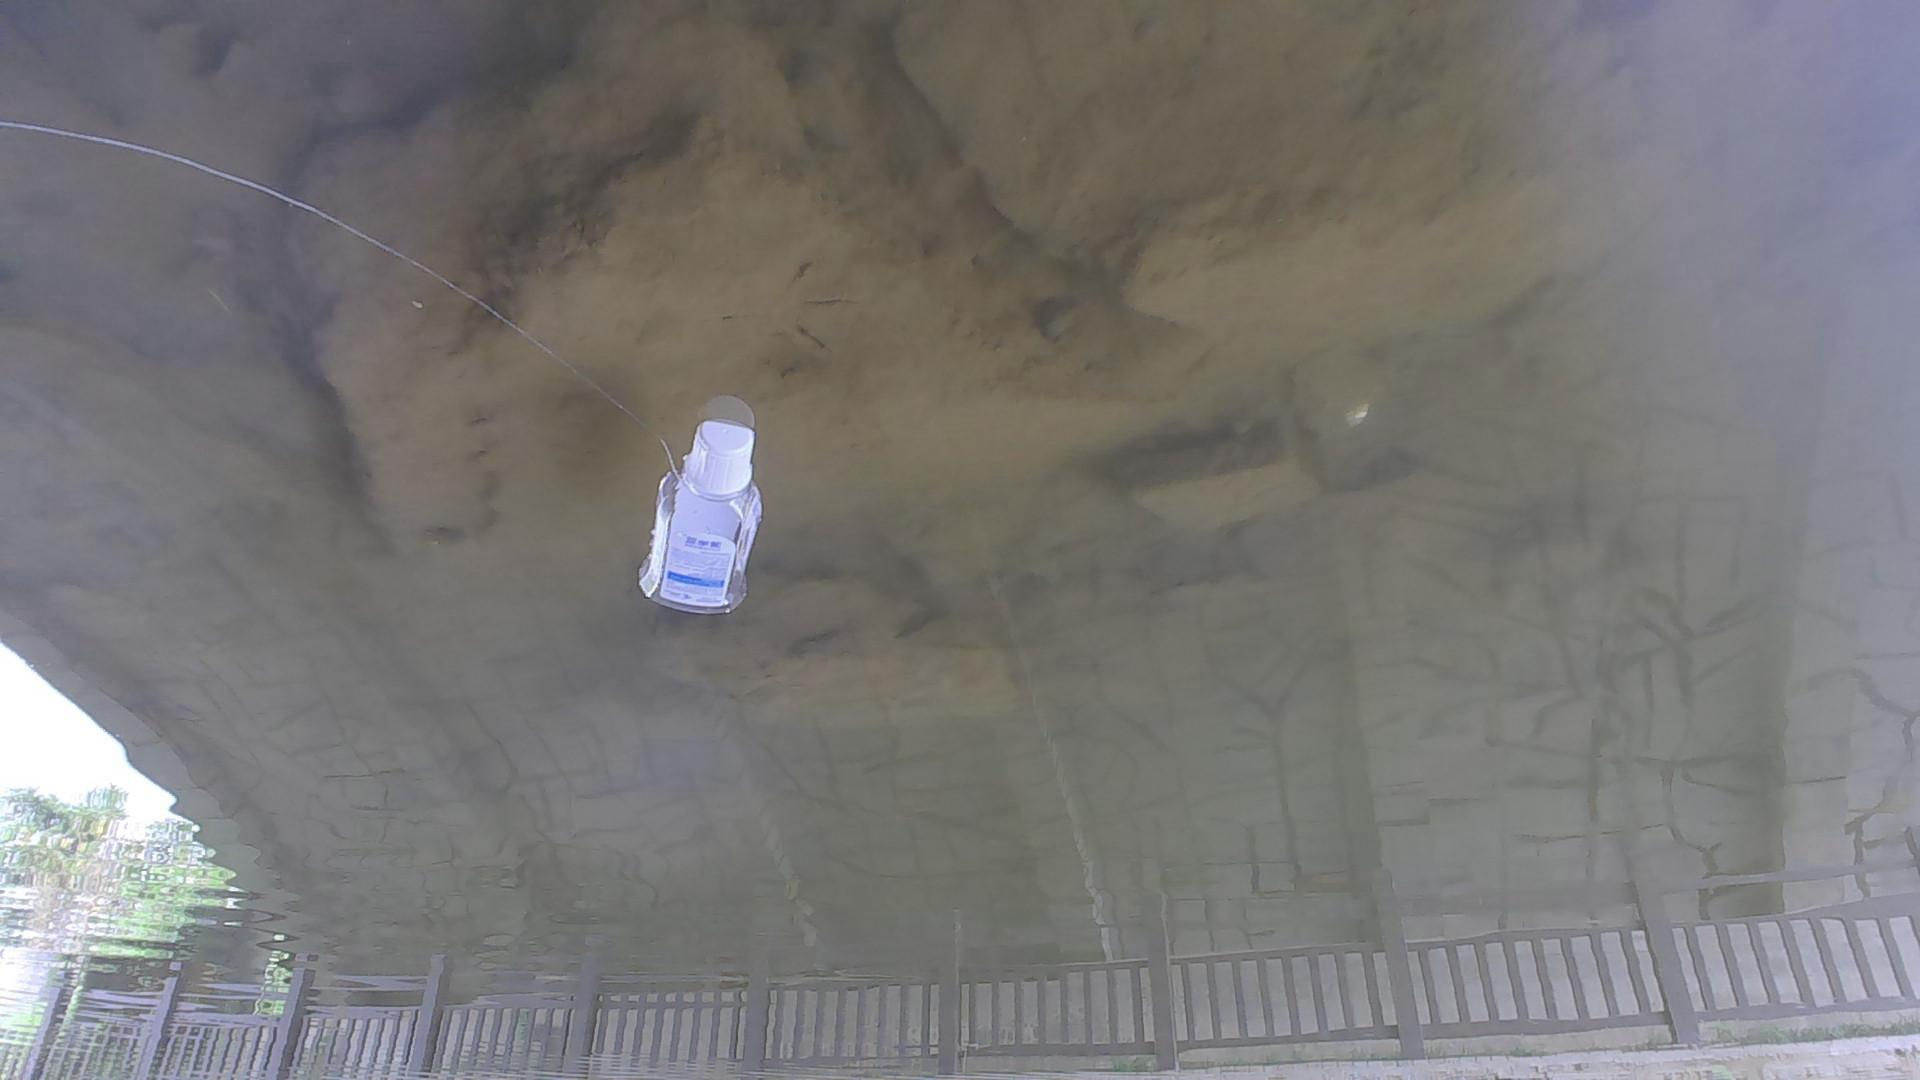Glass: (636, 419, 766, 618)
